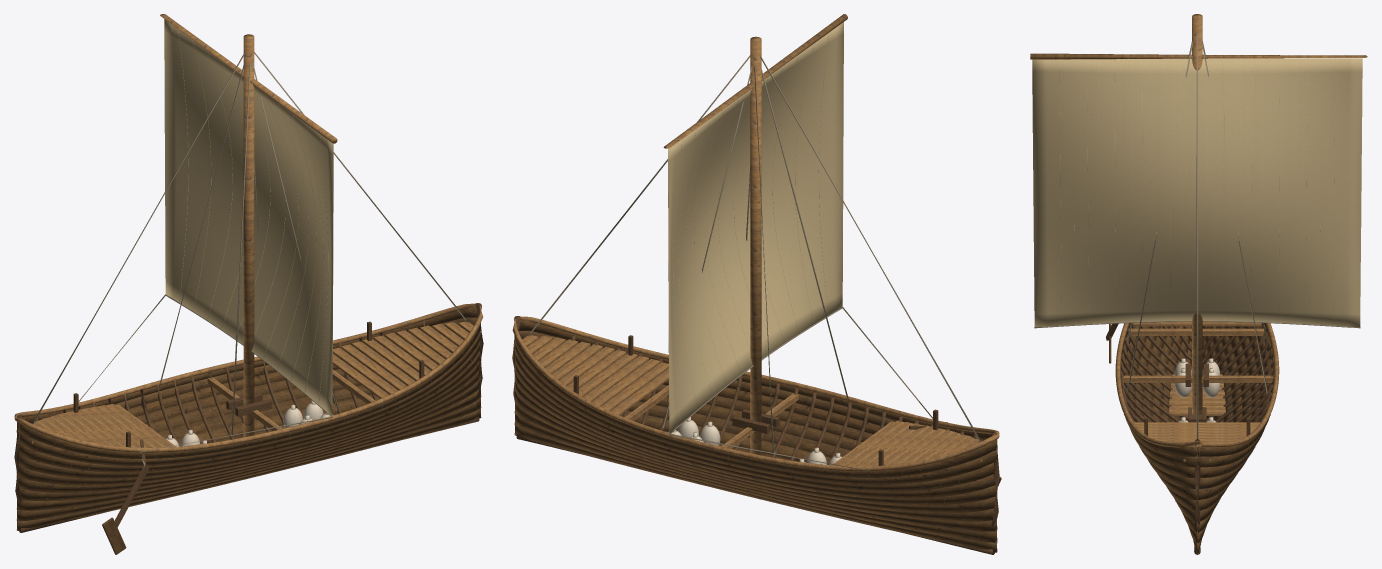
Rendered from Knarr.fbx.
The picture shows the model from 3 angles, left to right: view 1: azimuth 30°, elevation 25°; view 2: azimuth 150°, elevation 25°; view 3: azimuth 270°, elevation 25°; orthographic projection. The views are drawn at different scales.
Visible parts, largest first — view 1: SM_Knarr_Hull_Export, SM_Knarr_Sail_Export, SM_Knarr_Rig_Export, SM_Knarr_Cargo_Export; view 2: SM_Knarr_Hull_Export, SM_Knarr_Sail_Export, SM_Knarr_Rig_Export, SM_Knarr_Cargo_Export; view 3: SM_Knarr_Sail_Export, SM_Knarr_Hull_Export, SM_Knarr_Rig_Export, SM_Knarr_Cargo_Export.
Part boxes in pixels (left/top/right/bottom): SM_Knarr_Hull_Export: left=14, top=303, right=483, bottom=554; SM_Knarr_Sail_Export: left=78, top=19, right=333, bottom=452; SM_Knarr_Rig_Export: left=32, top=14, right=466, bottom=437; SM_Knarr_Cargo_Export: left=166, top=400, right=333, bottom=446; SM_Knarr_Hull_Export: left=512, top=316, right=1001, bottom=554; SM_Knarr_Sail_Export: left=668, top=22, right=932, bottom=471; SM_Knarr_Rig_Export: left=530, top=14, right=981, bottom=455; SM_Knarr_Cargo_Export: left=668, top=417, right=841, bottom=465; SM_Knarr_Sail_Export: left=1032, top=58, right=1362, bottom=328; SM_Knarr_Hull_Export: left=1106, top=321, right=1279, bottom=554; SM_Knarr_Rig_Export: left=1030, top=14, right=1367, bottom=439; SM_Knarr_Cargo_Export: left=1174, top=358, right=1220, bottom=422.
Bounding box in the file's own units: 1596 × 1021 × 1440.
7 materials, 7 textured.
